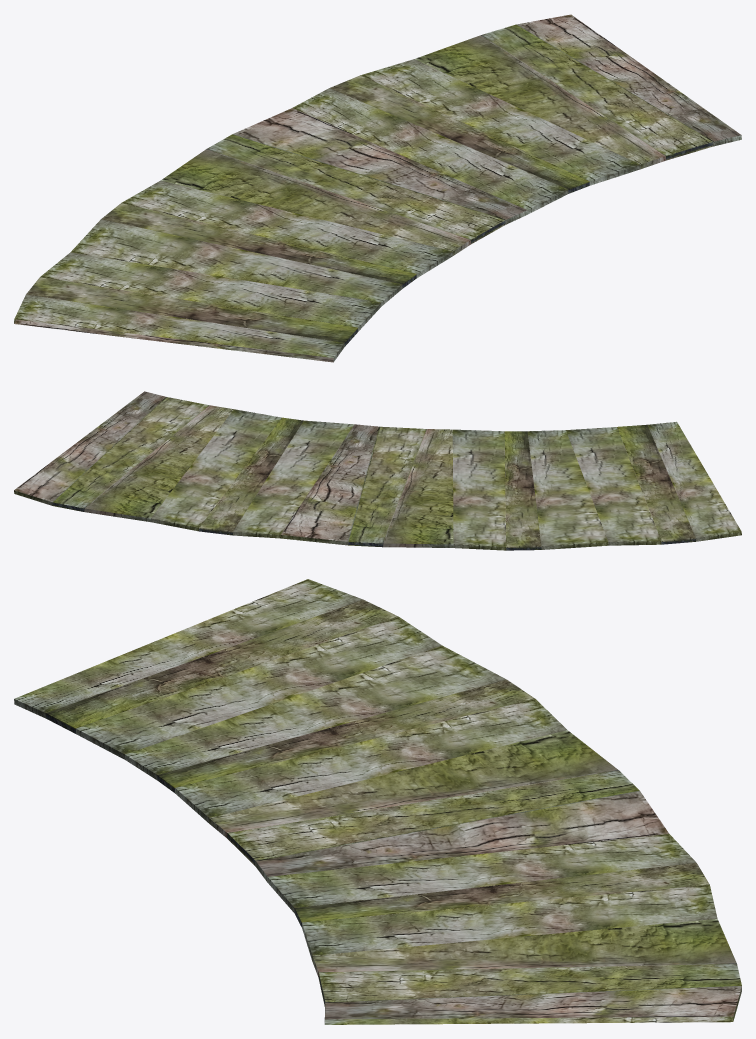
The model's file is gameobject_27_colider.fbx.
The picture shows the model from 3 angles, top to bottom: view 1: azimuth 30°, elevation 25°; view 2: azimuth 150°, elevation 25°; view 3: azimuth 270°, elevation 25°; orthographic projection. The views are drawn at different scales.
Parts seen in each view (by area): view 1: GameObject__27_; view 2: GameObject__27_; view 3: GameObject__27_.
Part boxes in pixels (x1=…): GameObject__27_: x1=14, y1=14, x2=741, y2=362; GameObject__27_: x1=14, y1=391, x2=741, y2=550; GameObject__27_: x1=14, y1=579, x2=741, y2=1024.
Size of the model in its own units: 509 by 3 by 356.
